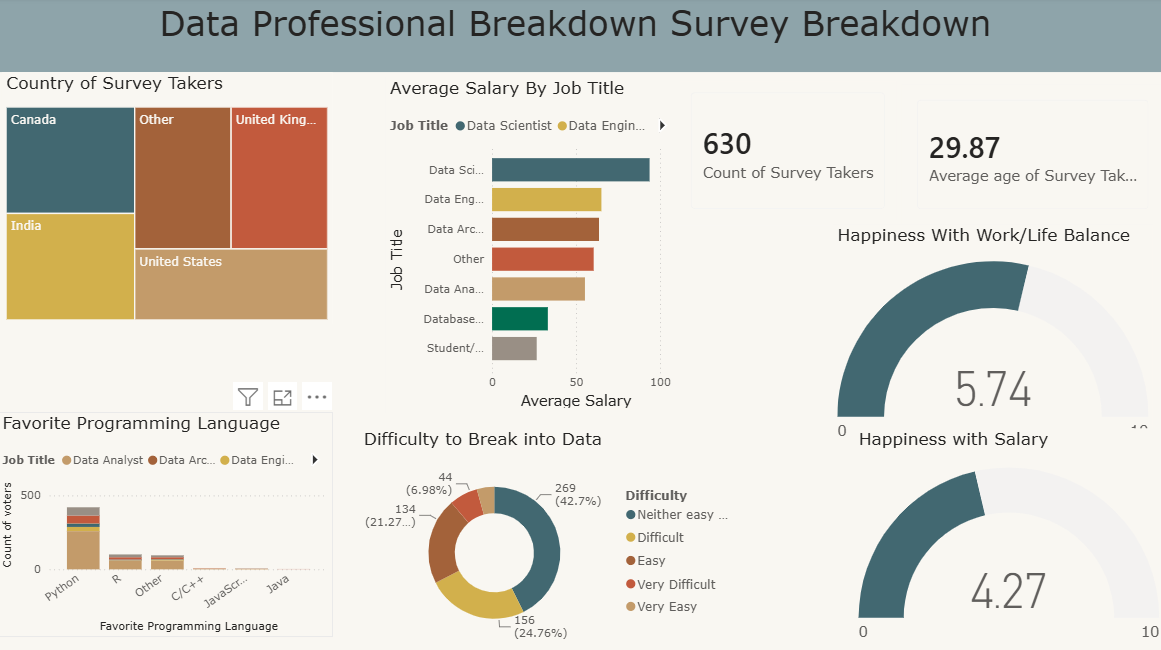

What the dashboard file says about the page in this screenshot:
{"tool":"powerbi","page":{"name":"Page 1","canvas":[1280,720],"ordinal":0},"visuals":[{"type":"textbox","box":[0,0,1280.3,82.3],"z":0},{"type":"cardVisual","fields":{"Data":["Count(Data Professional Survey.Unique ID)"]},"box":[744.3,87.1,247.1,162.9],"z":1000},{"type":"cardVisual","fields":{"Data":["Avg(Data Professional Survey.Q10 - Current Age)"]},"box":[991.4,95.7,288.6,154.3],"z":2000},{"type":"barChart","title":"Average Salary By Job Title","fields":{"Category":["Data Professional Survey.Q1 - Which Title Best Fits your Current Role?.1"],"Y":["Avg(Data Professional Survey.Average Salary)"],"Series":["Data Professional Survey.Q1 - Which Title Best Fits your Current Role?.1"]},"box":[425.7,87.1,318.6,368.6],"z":3000},{"type":"columnChart","title":"Favorite Programming Language","fields":{"Category":["Data Professional Survey.Q5 - Favorite Programming Language.1"],"Y":["CountNonNull(Data Professional Survey.Unique ID)"],"Series":["Data Professional Survey.Q1 - Which Title Best Fits your Current Role?.1"]},"box":[0,455.7,367.1,247.1],"z":4000},{"type":"treemap","title":"Country of Survey Takers ","fields":{"Group":["Data Professional Survey.Q11 - Which Country do you live in?.1"],"Values":["Count(Data Professional Survey.Q11 - Which Country do you live in?.1)"]},"box":[4.3,82.9,362.9,277.1],"z":5000},{"type":"gauge","title":"Happiness With Work/Life Balance","fields":{"Y":["Avg(Data Professional Survey.Q6 - How Happy are you in your Current Position with the following? (Work/Life Balance))"],"MinValue":["Min(Data Professional Survey.Q6 - How Happy are you in your Current Position with the following? (Work/Life Balance))"],"MaxValue":["Max(Data Professional Survey.Q6 - How Happy are you in your Current Position with the following? (Work/Life Balance))1"]},"box":[917.1,250,351.4,247.1],"z":6000},{"type":"gauge","title":"Happiness with Salary","fields":{"MinValue":["Min(Data Professional Survey.Q6 - How Happy are you in your Current Position with the following? (Salary))"],"Y":["Avg(Data Professional Survey.Q6 - How Happy are you in your Current Position with the following? (Salary))"],"MaxValue":["Max(Data Professional Survey.Q6 - How Happy are you in your Current Position with the following? (Salary))"]},"box":[940,472.9,340,247],"z":7000},{"type":"donutChart","title":"Difficulty to Break into Data","fields":{"Category":["Data Professional Survey.Q7 - How difficult was it for you to break into Data?"],"Y":["CountNonNull(Data Professional Survey.Q7 - How difficult was it for you to break into Data?)"]},"box":[397.1,472.9,420,240],"z":8000}]}

Visuals, with their boxes in screenshot pixels (x1, y1, x2, y2), scaled from the page's 1280x720 canvas onto the 1161x650 screenshot:
textbox: bbox=[0, 0, 1160, 74]
cardVisual - Count(Data Professional Survey.Unique ID): bbox=[675, 79, 899, 226]
cardVisual - Avg(Data Professional Survey.Q10 - Current Age): bbox=[899, 86, 1160, 226]
"Average Salary By Job Title" barChart: bbox=[386, 79, 675, 411]
"Favorite Programming Language" columnChart: bbox=[0, 411, 333, 634]
"Country of Survey Takers " treemap: bbox=[4, 75, 333, 325]
"Happiness With Work/Life Balance" gauge: bbox=[832, 226, 1151, 449]
"Happiness with Salary" gauge: bbox=[853, 427, 1160, 649]
"Difficulty to Break into Data" donutChart: bbox=[360, 427, 741, 644]
